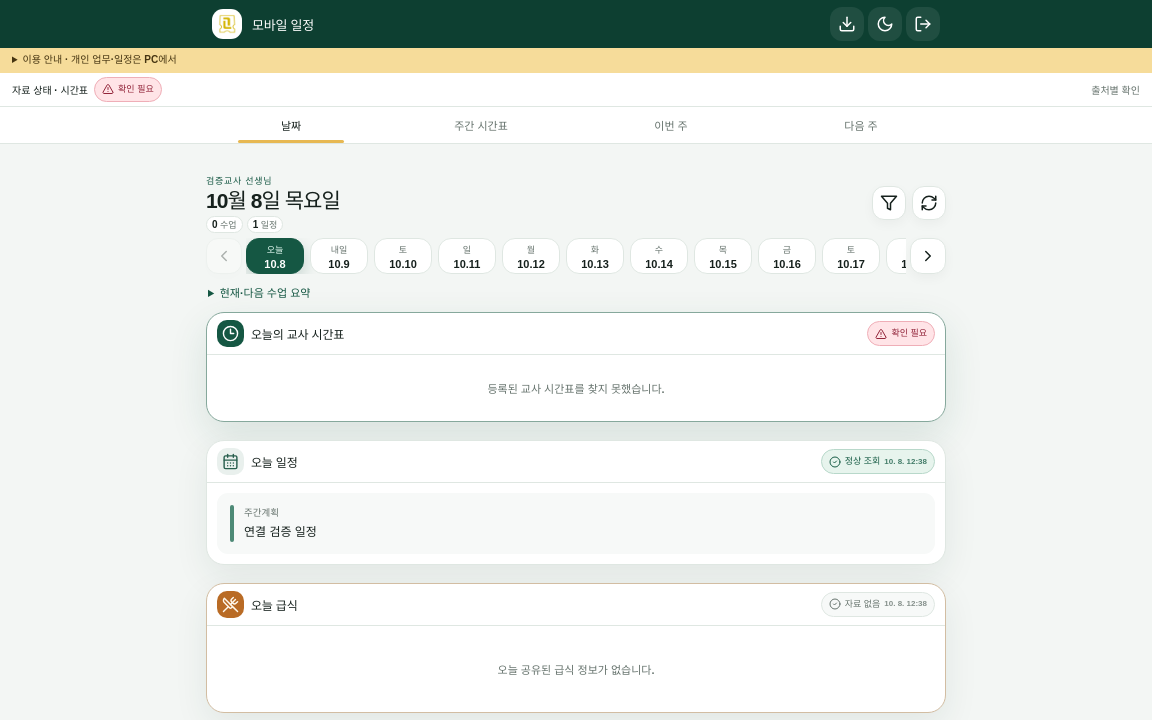
Test: 모바일 연결 안정화 통합 › 주간 시간표는 실제 날짜를 표시하며 지난주와 다음 주를 오간다
The width and height of the screenshot is (1152, 720).
Expected: the button "연결 검증 일정" is shown, [244,524,317,542]
Click the tab "주간 시간표" at (481, 124), box [386,106,576,142]
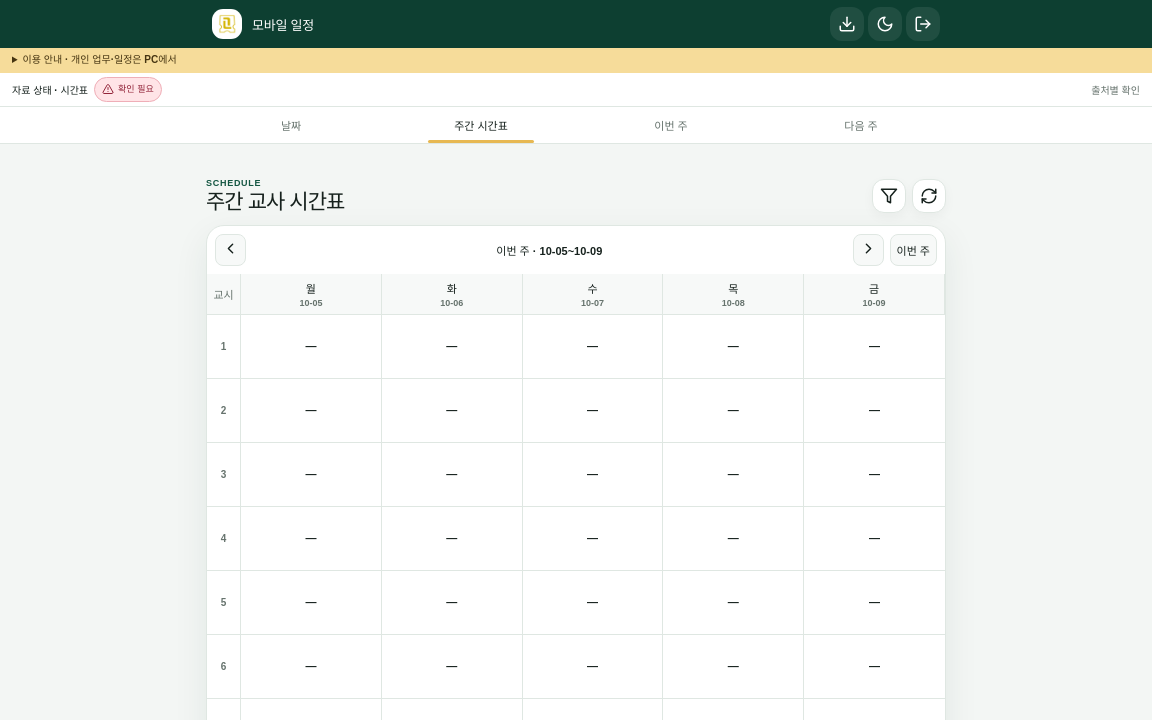
Expected: the text "이번 주 · 10-05~10-09" is shown, [496,244,602,256]
Click the button named "이전 주 시간표" at (230, 250), box [215,234,246,266]
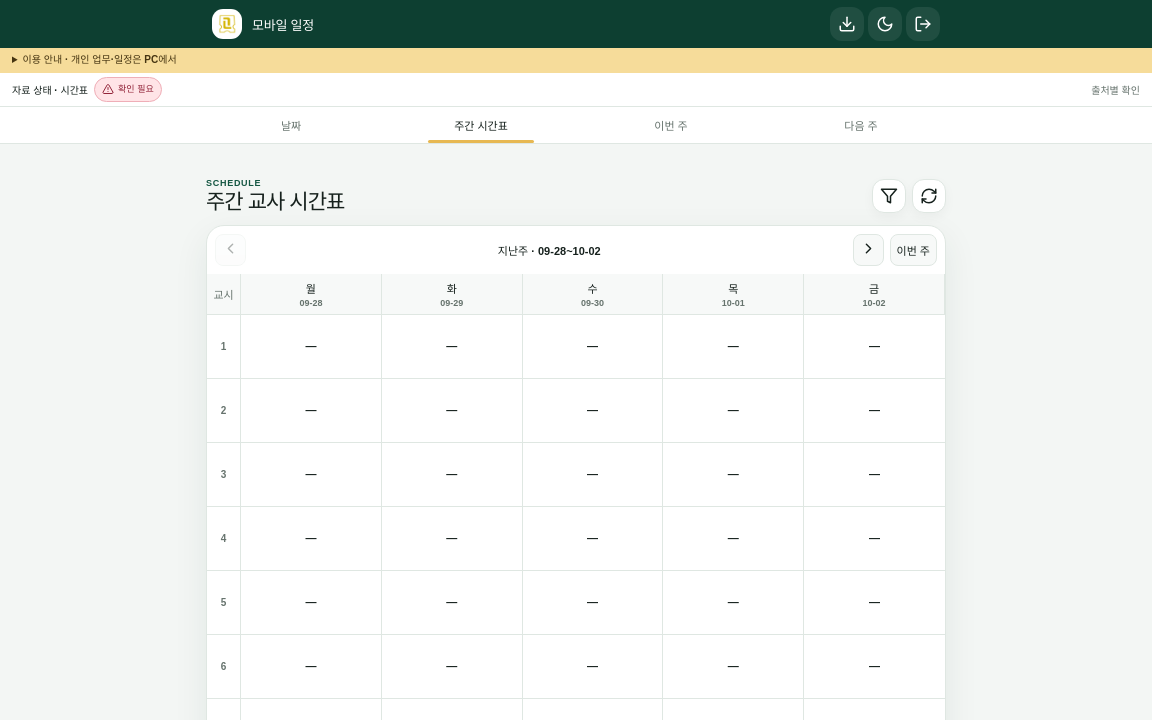
Expected: the text "지난주 · 09-28~10-02" is shown, [498,244,601,256]
Click the button "이번 주" at (913, 250), box [890,234,937,266]
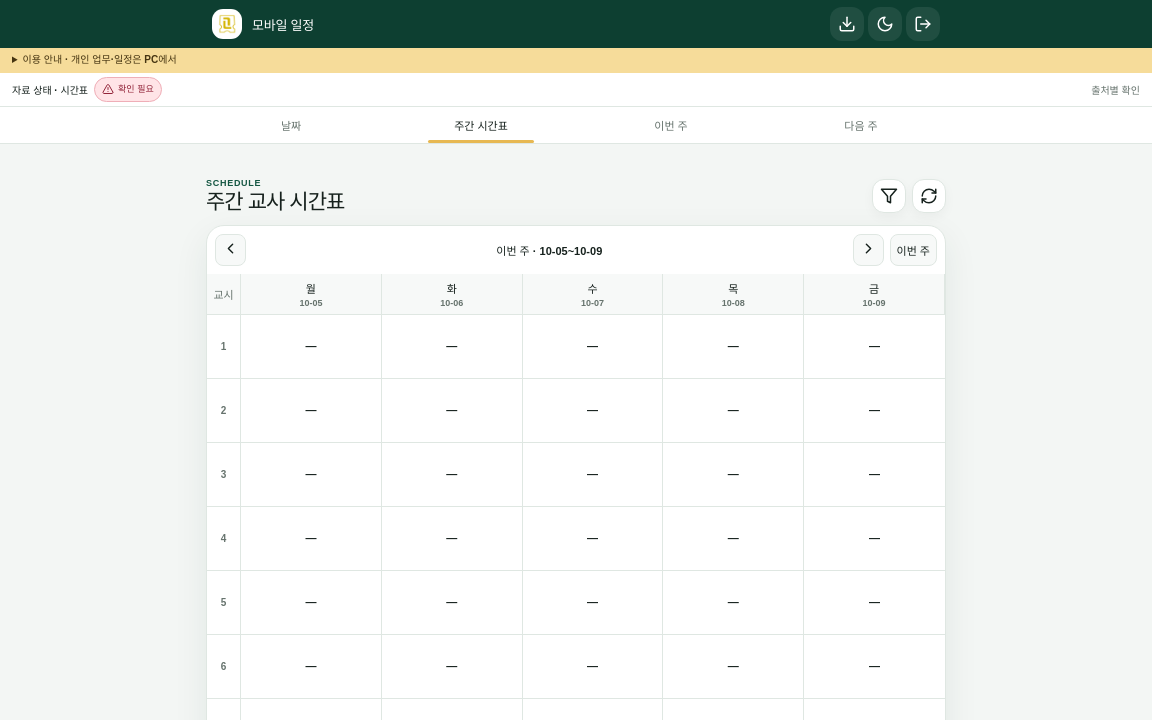
Click the button named "다음 주 시간표" at (868, 250), box [853,234,884,266]
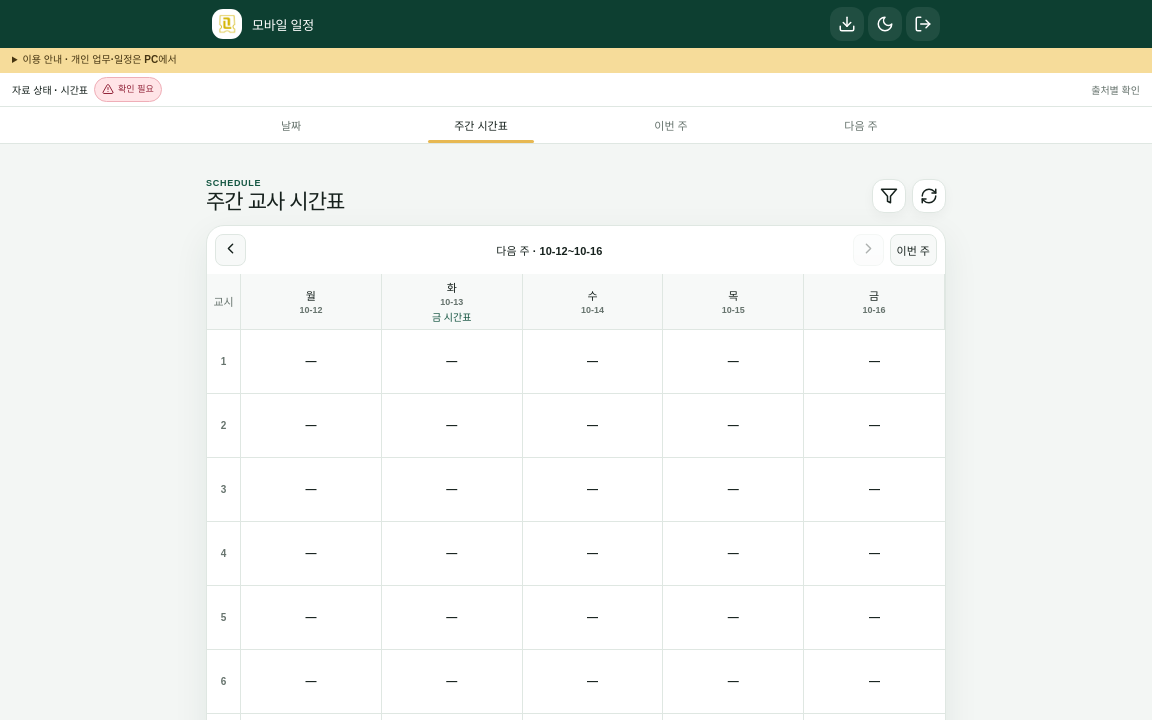
Expected: the text "다음 주 · 10-12~10-16" is shown, [496,244,602,256]
